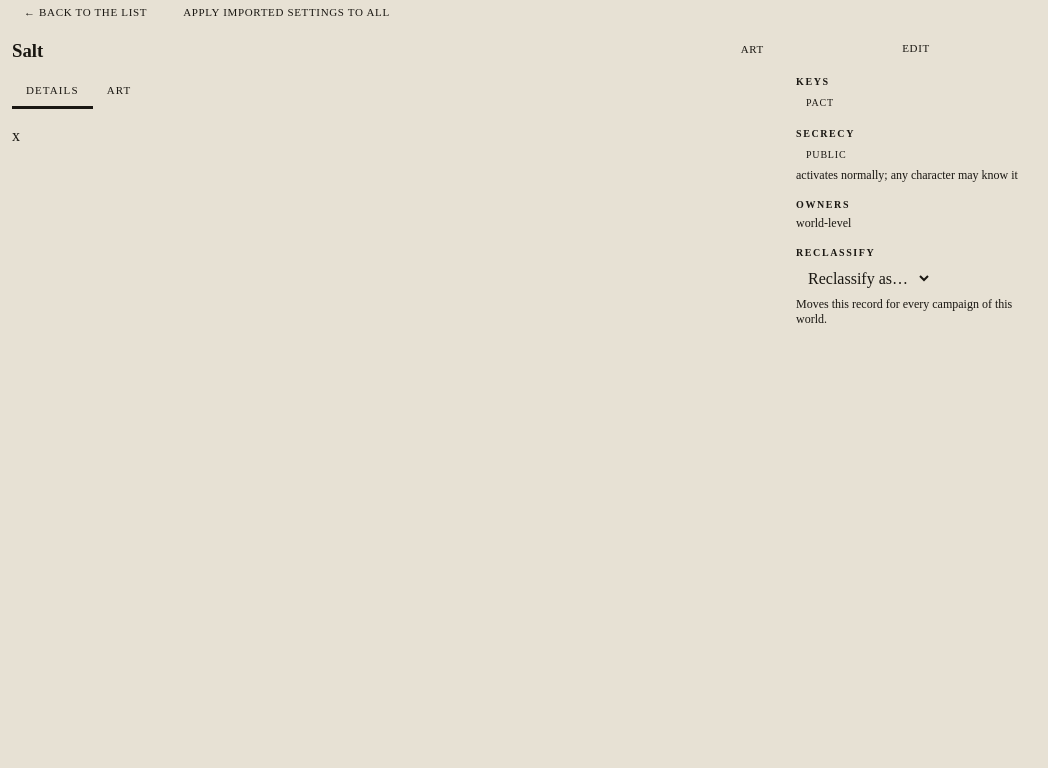
discard-and-reload throws the edit away and re-reads the record
This screenshot has width=1048, height=768.
Click the button "Edit" at coordinates (916, 48), box [796,36,1036,60]
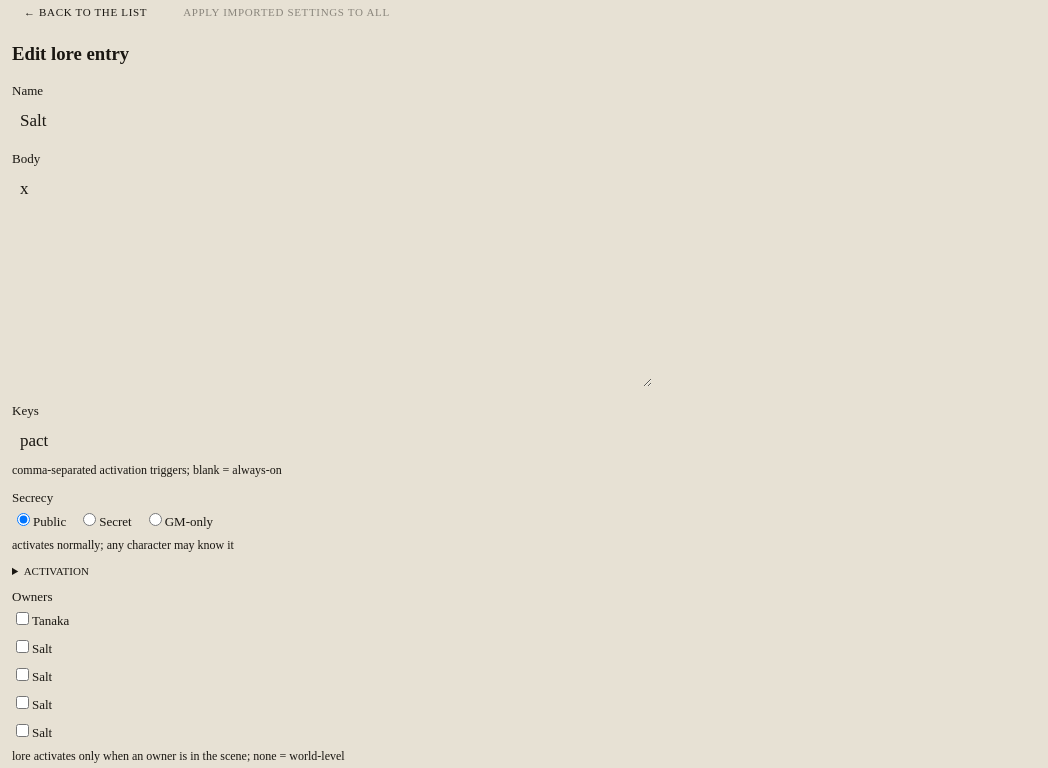
Replace the text in the text box labelled "Body" with "mine" at coordinates (332, 279), box [12,171,652,387]
(page scrolled)
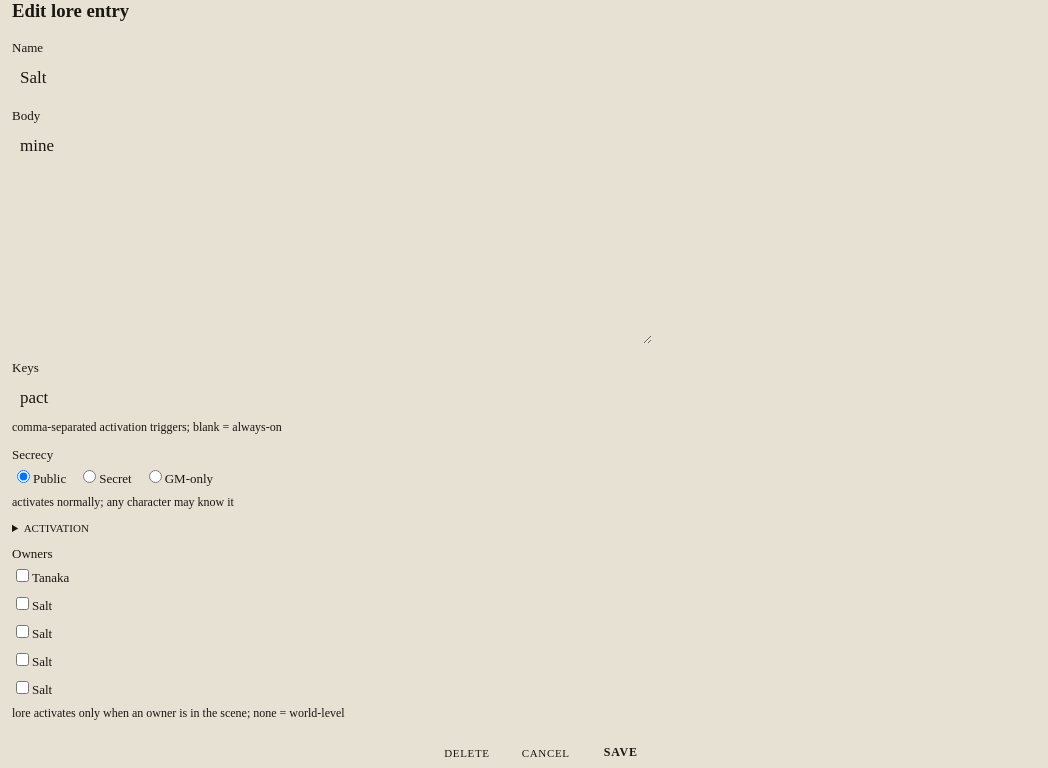
Click the button "Save" at coordinates (621, 753), box [590,737,652,767]
(page scrolled)
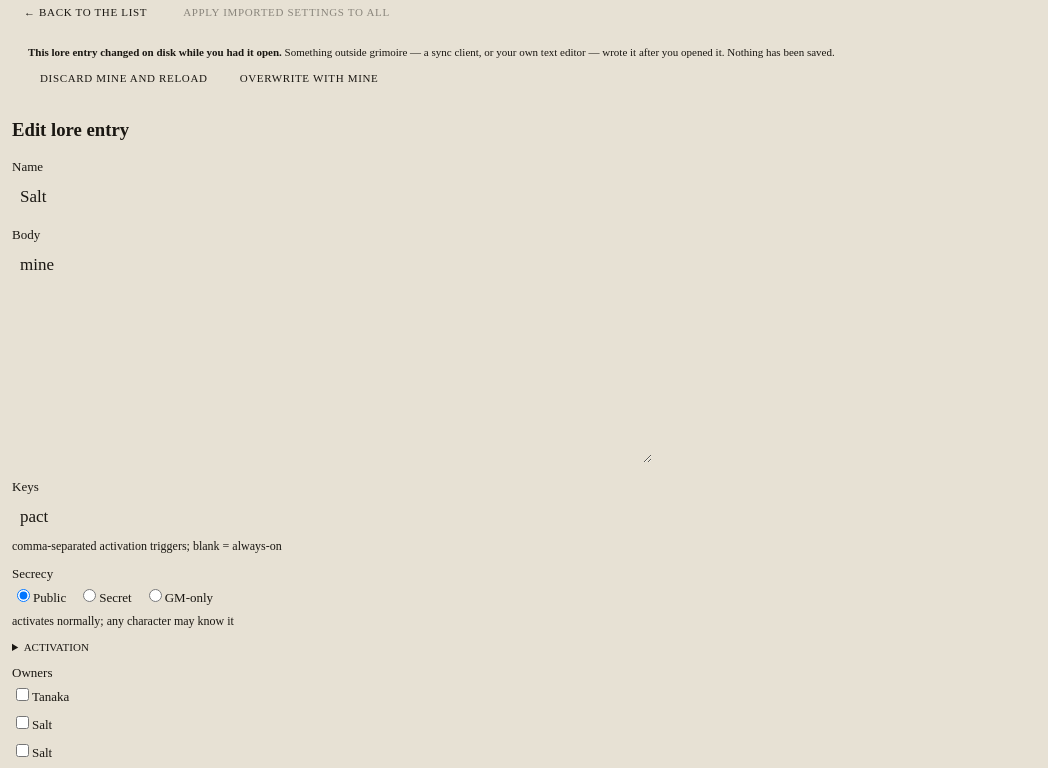
Click the button "Discard mine and reload" at coordinates (124, 78), box [28,66,220,90]
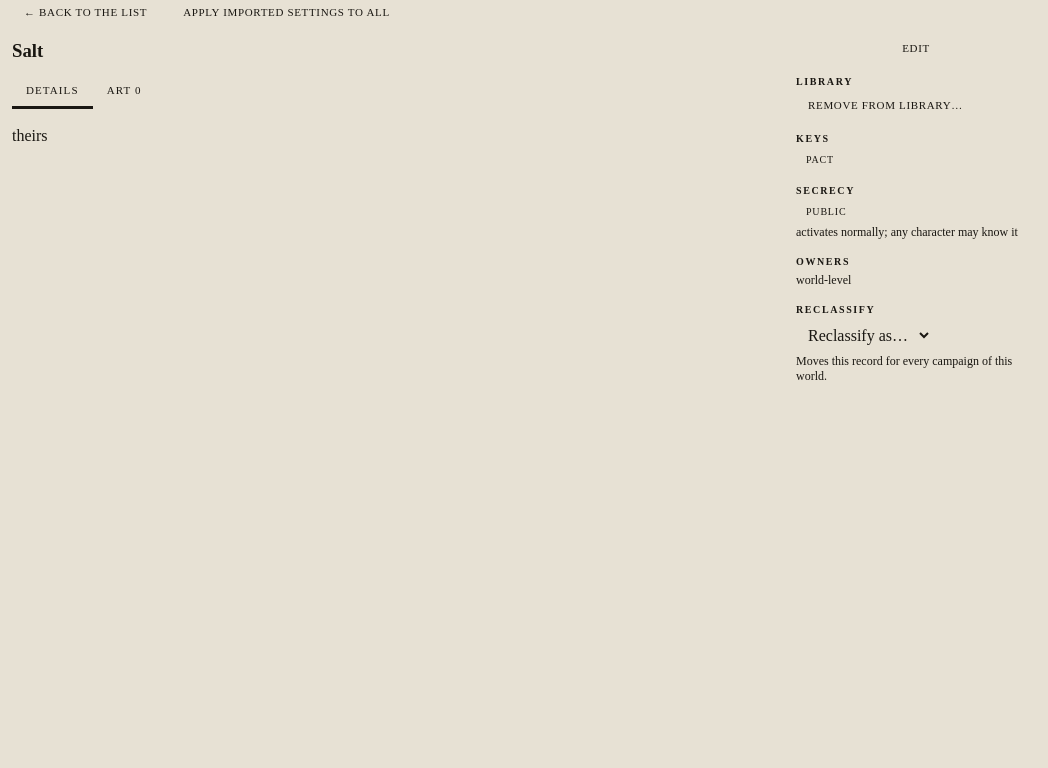
Result: the text "theirs" is shown at [12,127,48,144]
Result: the message is gone
